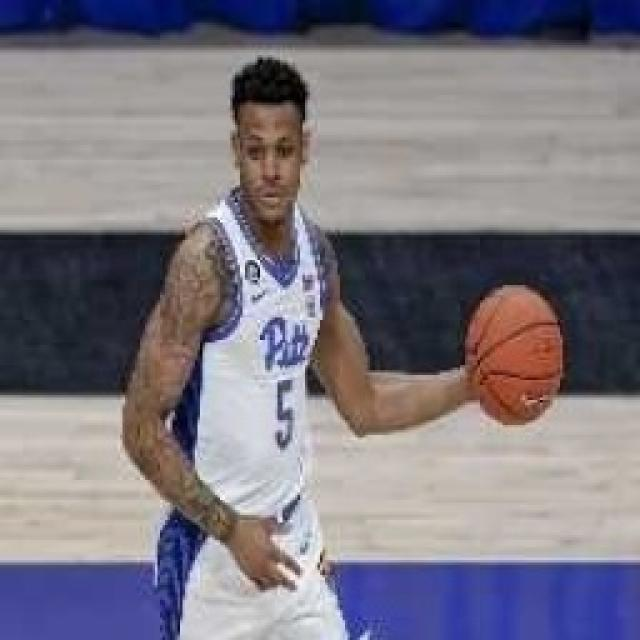rim: (464, 278, 562, 436)
